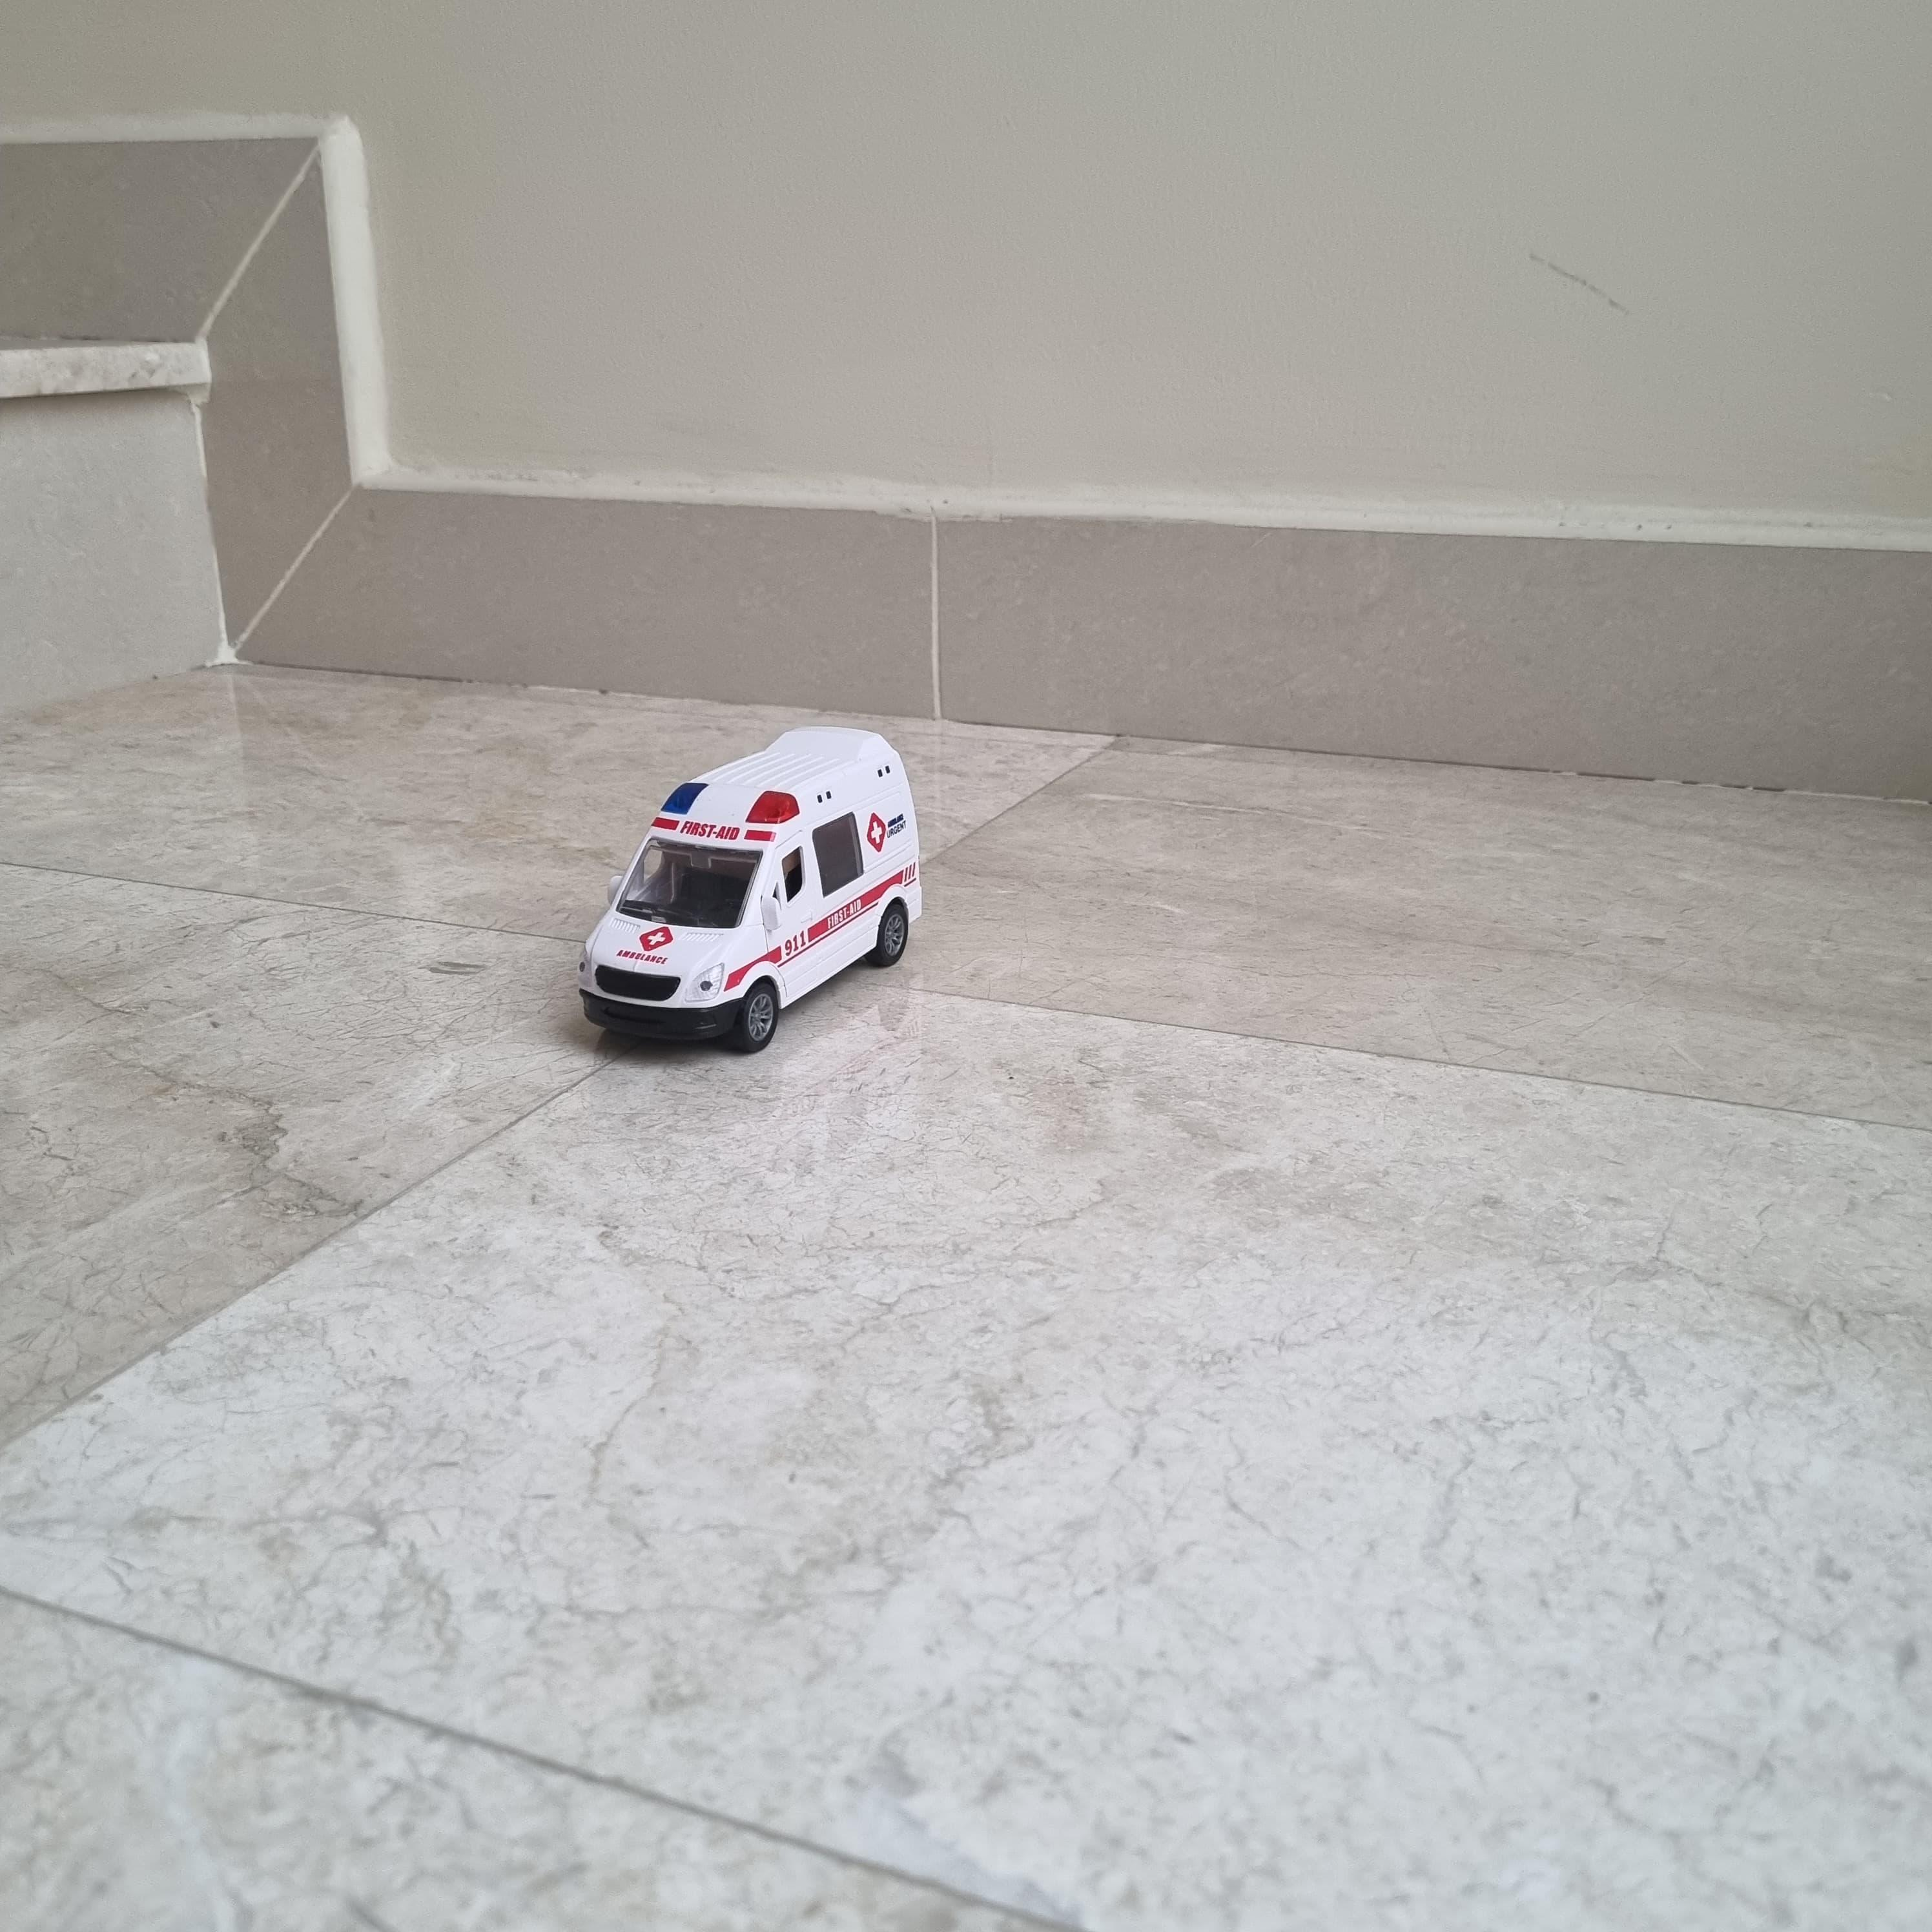ambulance_off: (575, 727, 924, 1056)
